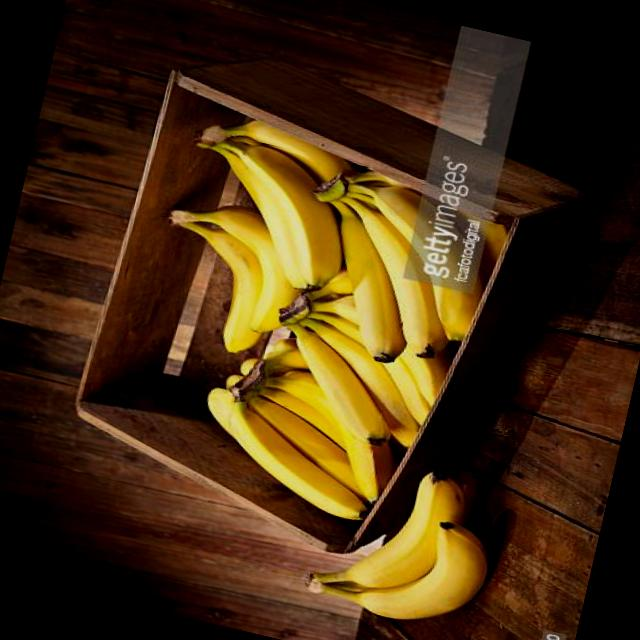banana: (272, 126, 542, 390), (182, 318, 434, 530), (154, 89, 398, 303), (247, 244, 480, 460), (296, 441, 512, 638), (132, 186, 320, 370)
